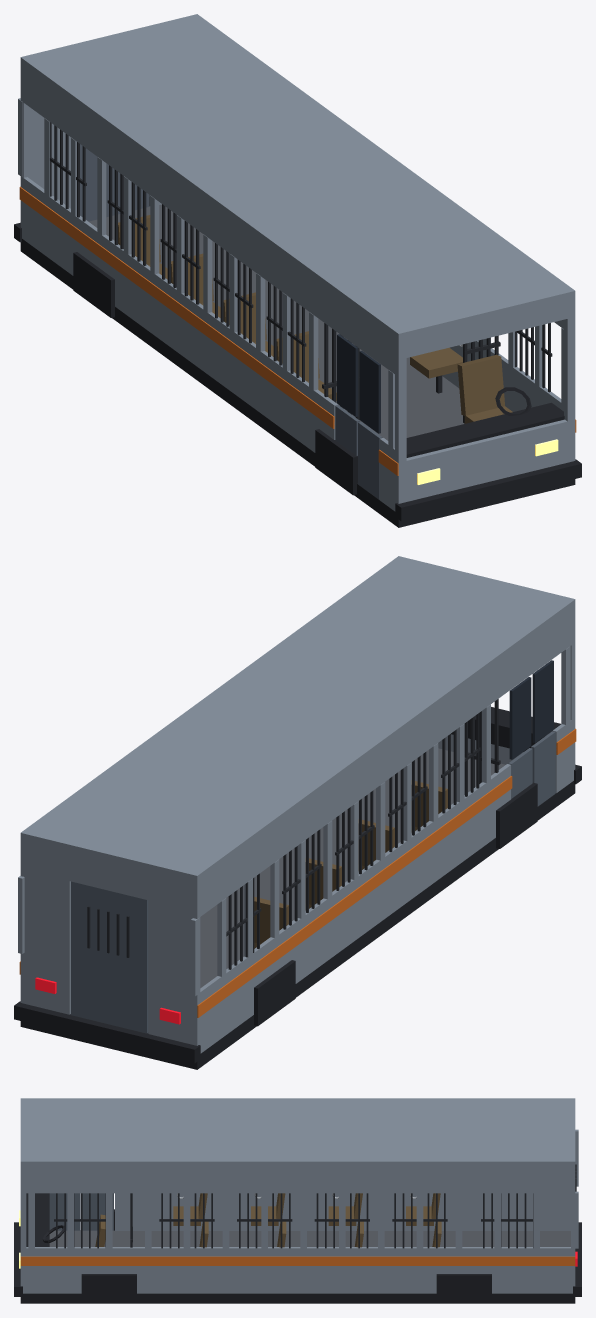
The model's file is prison_bus.glb.
3 views of the same model, one above another, from view 1: azimuth 30°, elevation 25°; view 2: azimuth 150°, elevation 25°; view 3: azimuth 270°, elevation 25° (orthographic). The views are drawn at different scales.
Visible parts, largest first — view 1: body_bus_grey, body_car_black, bars_bus_bars, body_bus_floor, seats_bus_seat, body_bus_orange, doors_bus_door, doors_truck_glass; view 2: body_bus_grey, body_car_black, doors_bus_door, bars_bus_bars, body_bus_floor, body_bus_orange, doors_truck_glass, seats_bus_seat, doors_bus_bars; view 3: body_bus_grey, body_car_black, body_bus_floor, body_bus_orange, bars_bus_bars, seats_bus_seat, doors_bus_door.
Part boxes in pixels (bbox=[...]): body_bus_grey: bbox=[18, 14, 575, 511]; body_car_black: bbox=[14, 197, 581, 527]; bars_bus_bars: bbox=[49, 122, 552, 423]; body_bus_floor: bbox=[89, 204, 464, 440]; seats_bus_seat: bbox=[118, 215, 512, 423]; body_bus_orange: bbox=[19, 186, 576, 475]; doors_bus_door: bbox=[80, 144, 382, 499]; doors_truck_glass: bbox=[337, 334, 380, 433]; body_bus_grey: bbox=[18, 556, 575, 1053]; body_car_black: bbox=[14, 707, 581, 1069]; doors_bus_door: bbox=[71, 731, 555, 1033]; bars_bus_bars: bbox=[226, 699, 500, 969]; body_bus_floor: bbox=[200, 748, 505, 988]; body_bus_orange: bbox=[19, 728, 576, 1017]; doors_truck_glass: bbox=[509, 660, 553, 759]; seats_bus_seat: bbox=[254, 780, 447, 948]; doors_bus_bars: bbox=[87, 906, 129, 957]; body_bus_grey: bbox=[20, 1098, 578, 1293]; body_car_black: bbox=[14, 1193, 581, 1303]; body_bus_floor: bbox=[49, 1230, 570, 1246]; body_bus_orange: bbox=[20, 1256, 575, 1265]; bars_bus_bars: bbox=[54, 1193, 533, 1248]; seats_bus_seat: bbox=[95, 1193, 441, 1247]; doors_bus_door: bbox=[49, 1193, 113, 1230].
Size of the model in its own units: 2.82 by 2.83 by 10.24.
